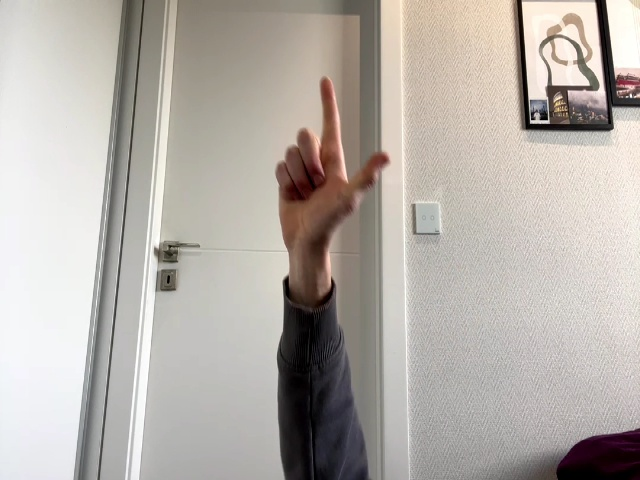L: (276, 77, 390, 282)
